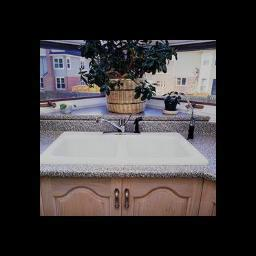Lavaplatos: (44, 120, 215, 167)
